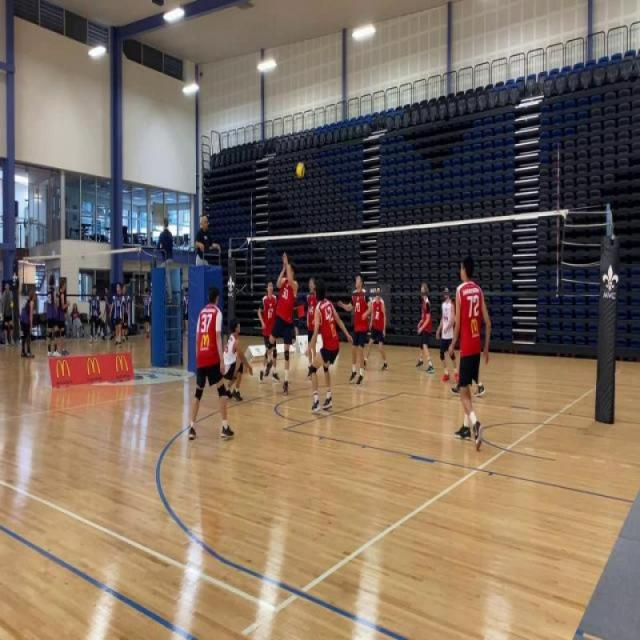volleyball: (294, 159, 307, 182)
